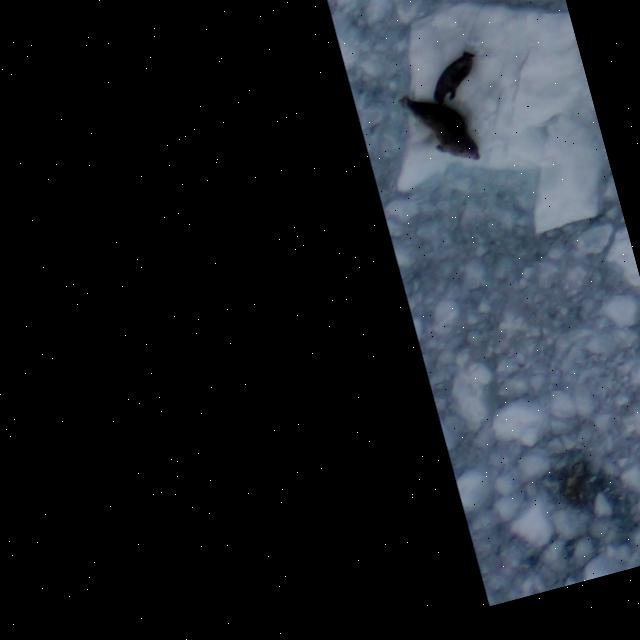seal: (395, 78, 484, 176), (418, 46, 488, 111)
